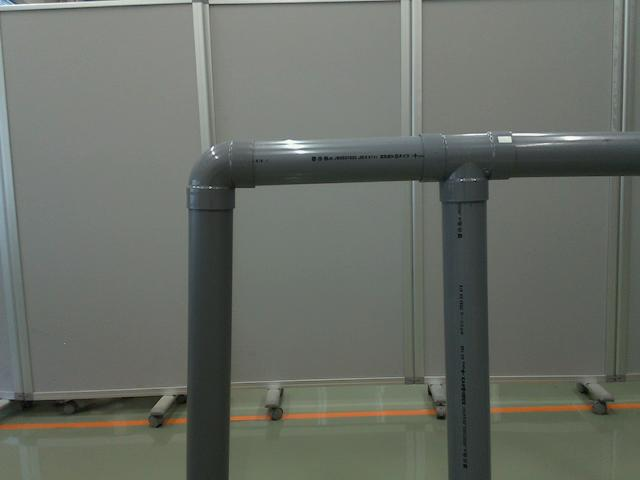bent: (186, 136, 258, 208)
junction: (414, 132, 518, 202)
